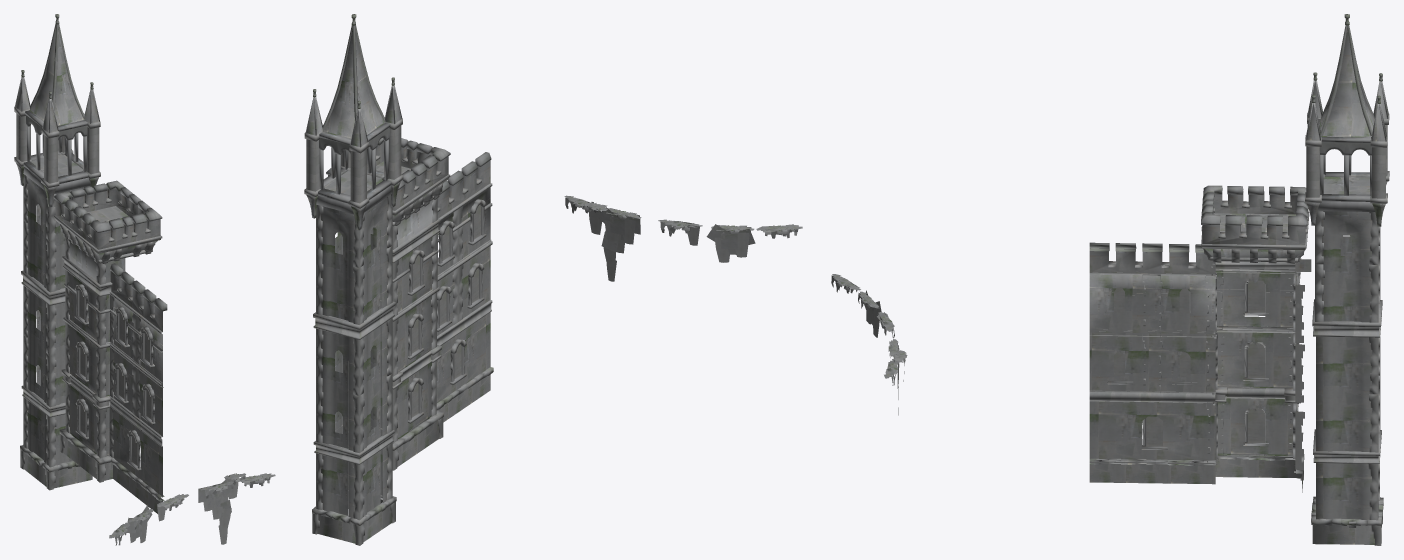
The picture shows the model from 3 angles, left to right: view 1: azimuth 30°, elevation 25°; view 2: azimuth 150°, elevation 25°; view 3: azimuth 270°, elevation 25°; orthographic projection. The views are drawn at different scales.
Parts seen in each view (by area): view 1: nt:*ObjectIndoorScene_Md_KnightOutDoor_MD_CityArea_MdBu_e553; view 2: nt:*ObjectIndoorScene_Md_KnightOutDoor_MD_CityArea_MdBu_e553; view 3: nt:*ObjectIndoorScene_Md_KnightOutDoor_MD_CityArea_MdBu_e553.
Part boxes in pixels (bbox=[...]): nt:*ObjectIndoorScene_Md_KnightOutDoor_MD_CityArea_MdBu_e553: bbox=[14, 14, 275, 545]; nt:*ObjectIndoorScene_Md_KnightOutDoor_MD_CityArea_MdBu_e553: bbox=[304, 14, 802, 545]; nt:*ObjectIndoorScene_Md_KnightOutDoor_MD_CityArea_MdBu_e553: bbox=[831, 14, 1389, 545].
Size of the model in its own units: 99.48 by 200 by 195.
1 material, 1 textured.
